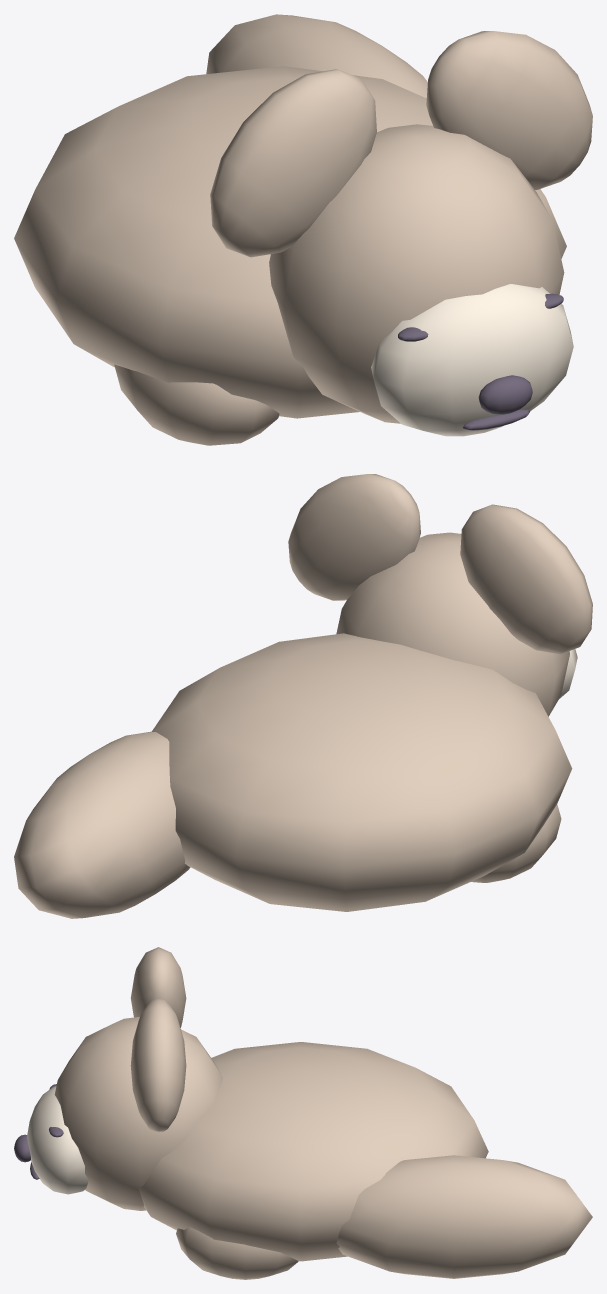
The model's file is dog-reflection.glb.
3 renders of one model, top to bottom at view 1: azimuth 30°, elevation 25°; view 2: azimuth 150°, elevation 25°; view 3: azimuth 270°, elevation 25°, orthographic. The views are drawn at different scales.
Visible parts, largest first — view 1: dog reflection offline illustration; view 2: dog reflection offline illustration; view 3: dog reflection offline illustration.
Boxes of the visible parts, x1,y1,x2,y2 form: dog reflection offline illustration: (14, 14, 592, 445); dog reflection offline illustration: (14, 474, 592, 918); dog reflection offline illustration: (14, 947, 592, 1279).
Size of the model in its own units: 0.5195 by 0.4048 by 0.833.
